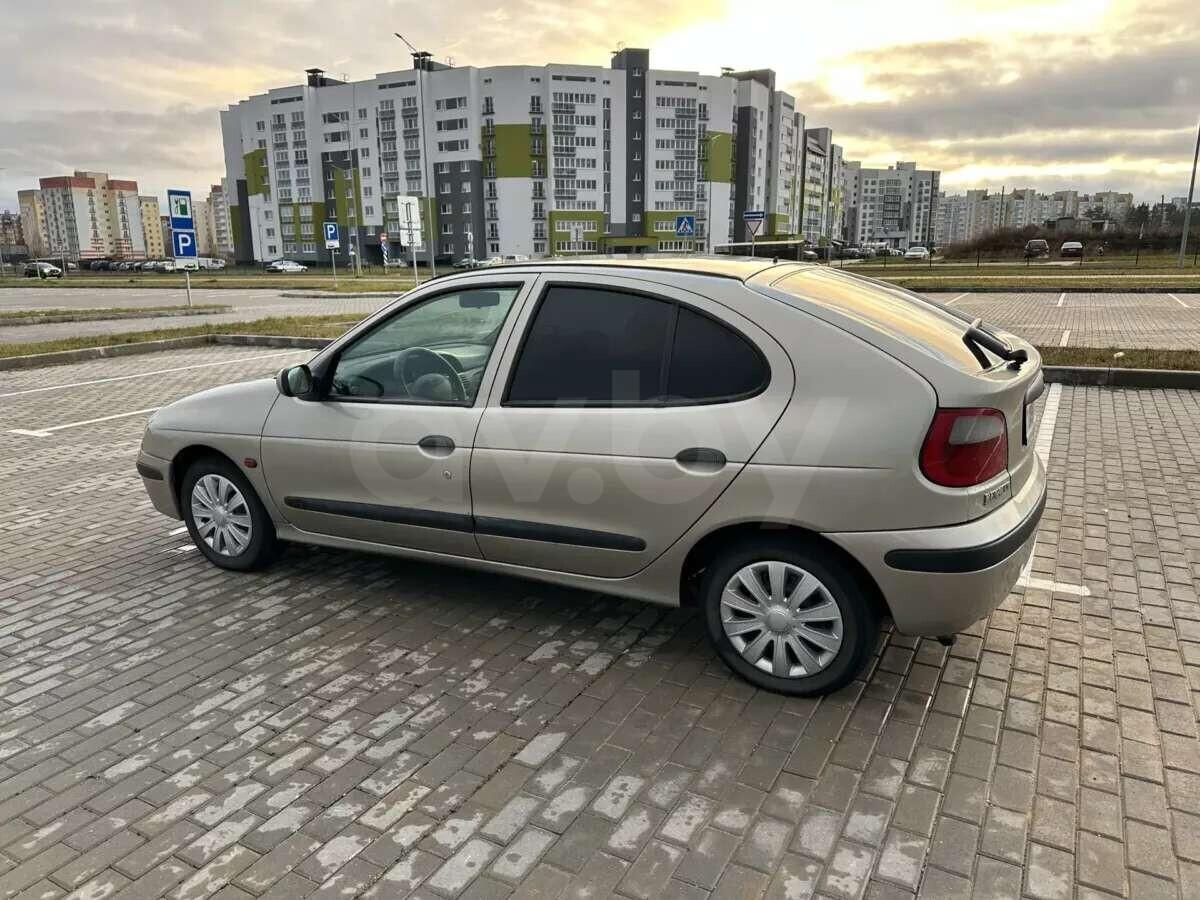Megane_1999-2003: (136, 258, 1060, 690)
